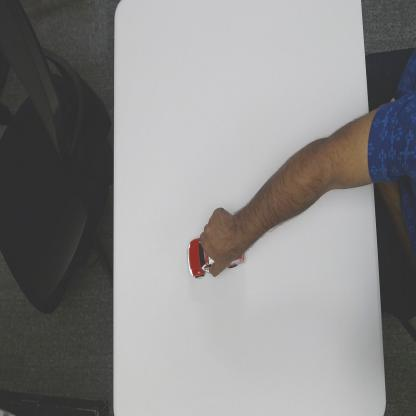Arm: (252, 100, 371, 246)
Firetruck: (186, 231, 246, 284)
Hand: (198, 202, 251, 278)
